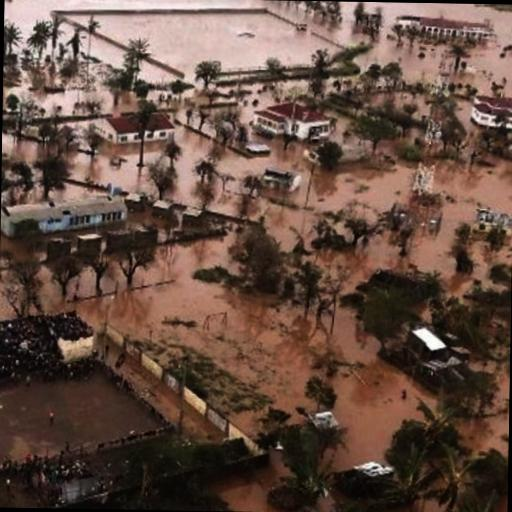flood: (38, 233, 326, 425), (4, 0, 369, 84), (209, 138, 416, 251), (358, 156, 512, 292), (323, 309, 438, 473), (357, 2, 512, 96), (305, 228, 477, 294), (53, 152, 148, 204), (212, 452, 291, 512), (71, 142, 153, 195), (168, 125, 216, 206), (257, 199, 318, 252), (460, 405, 509, 453), (91, 35, 125, 67), (2, 135, 40, 163), (139, 61, 178, 83), (384, 501, 444, 512), (496, 367, 510, 404), (0, 295, 10, 320)
house: (0, 194, 128, 242), (406, 325, 473, 378), (257, 104, 337, 146), (98, 113, 176, 146), (418, 18, 492, 45), (470, 95, 512, 137), (256, 168, 306, 194), (312, 408, 346, 444)
